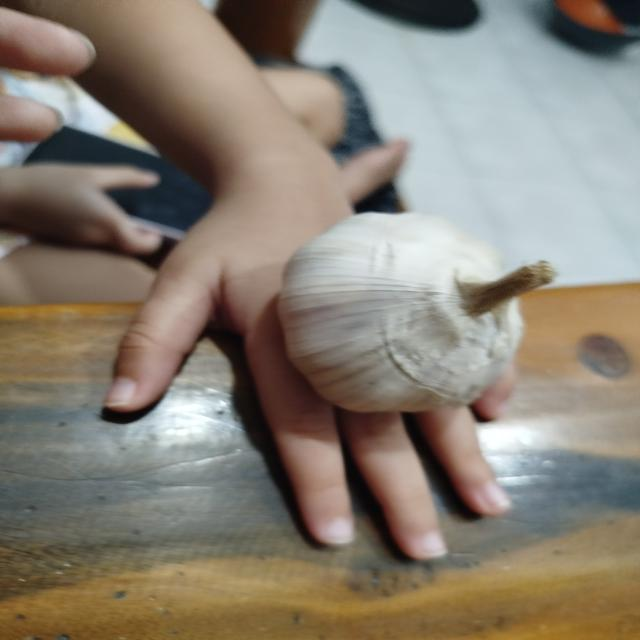garlic: (254, 194, 574, 432)
